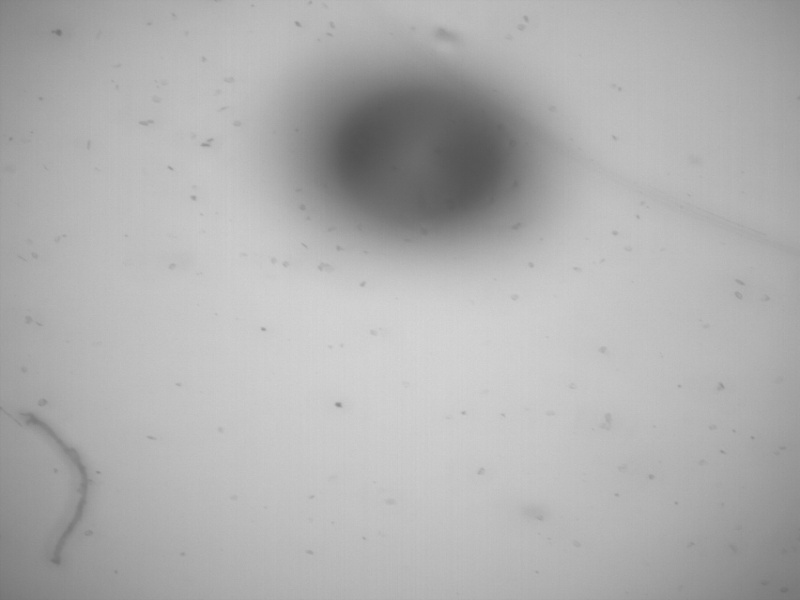bead: (331, 87, 516, 231)
fiber: (18, 408, 93, 571)
